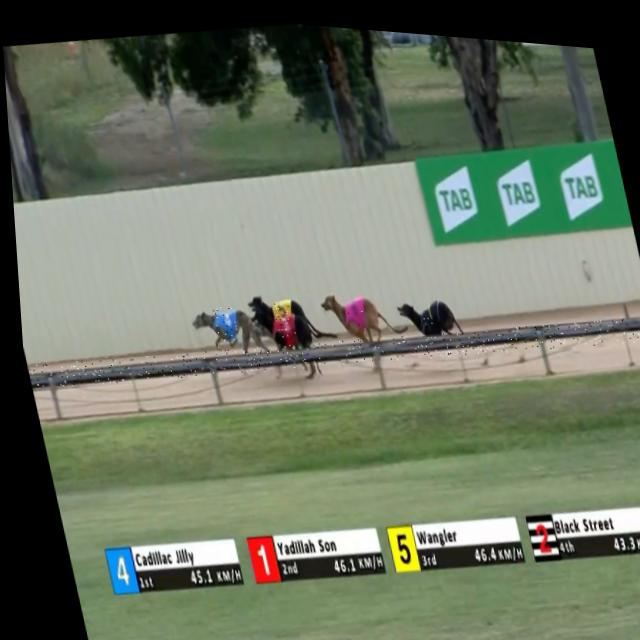dog_eight: (341, 294, 364, 323)
dog_five: (270, 295, 288, 318)
dog_four: (208, 301, 236, 340)
dog_one: (270, 308, 294, 337)
dog_seven: (417, 296, 435, 320)
rail: (27, 308, 640, 389)
